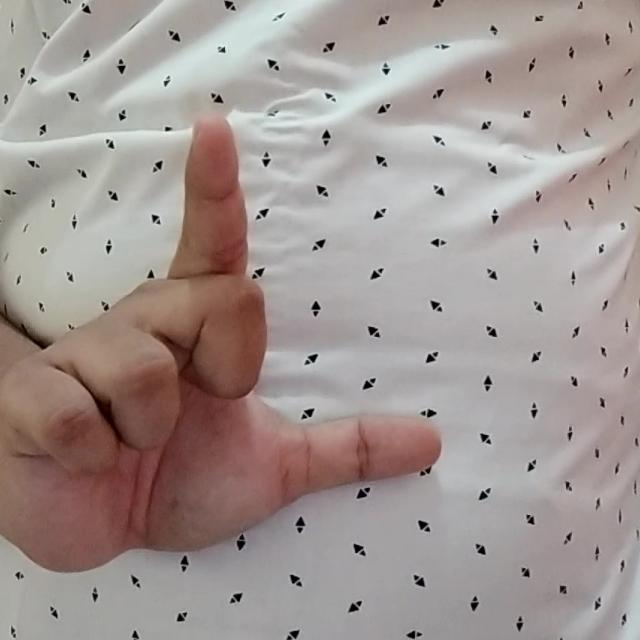L: (8, 101, 450, 582)
